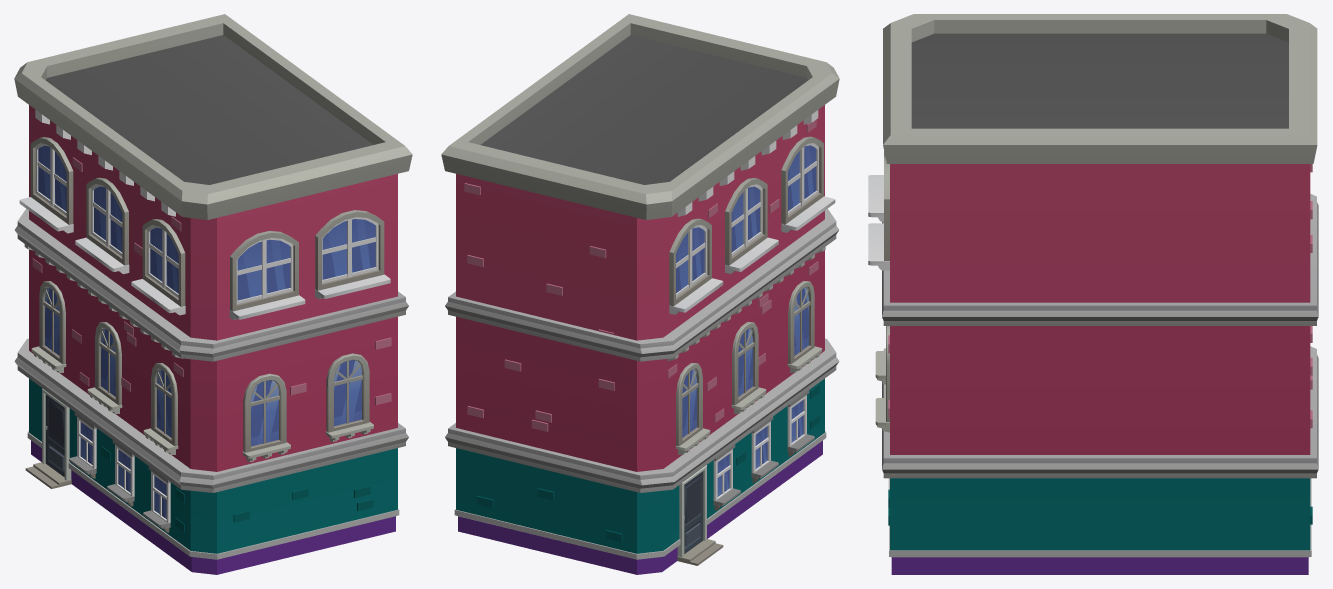
Rendered from Building_18_3_D.fbx.
3 renders of one model, left to right at view 1: azimuth 30°, elevation 25°; view 2: azimuth 150°, elevation 25°; view 3: azimuth 270°, elevation 25°, orthographic. The views are drawn at different scales.
Parts seen in each view (by area): view 1: Building_18_3_D; view 2: Building_18_3_D; view 3: Building_18_3_D.
Part boxes in pixels (x1,y1,x2,y2): Building_18_3_D: (14, 14, 412, 574); Building_18_3_D: (441, 14, 839, 574); Building_18_3_D: (868, 14, 1318, 574).
Size of the model in its own units: 719 by 1156 by 1059.
